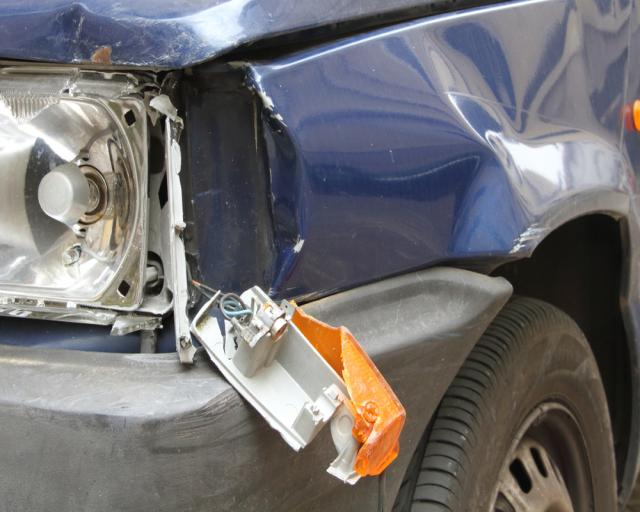dent: (340, 21, 600, 251), (13, 3, 162, 61)
lamp broken: (0, 63, 196, 326)
